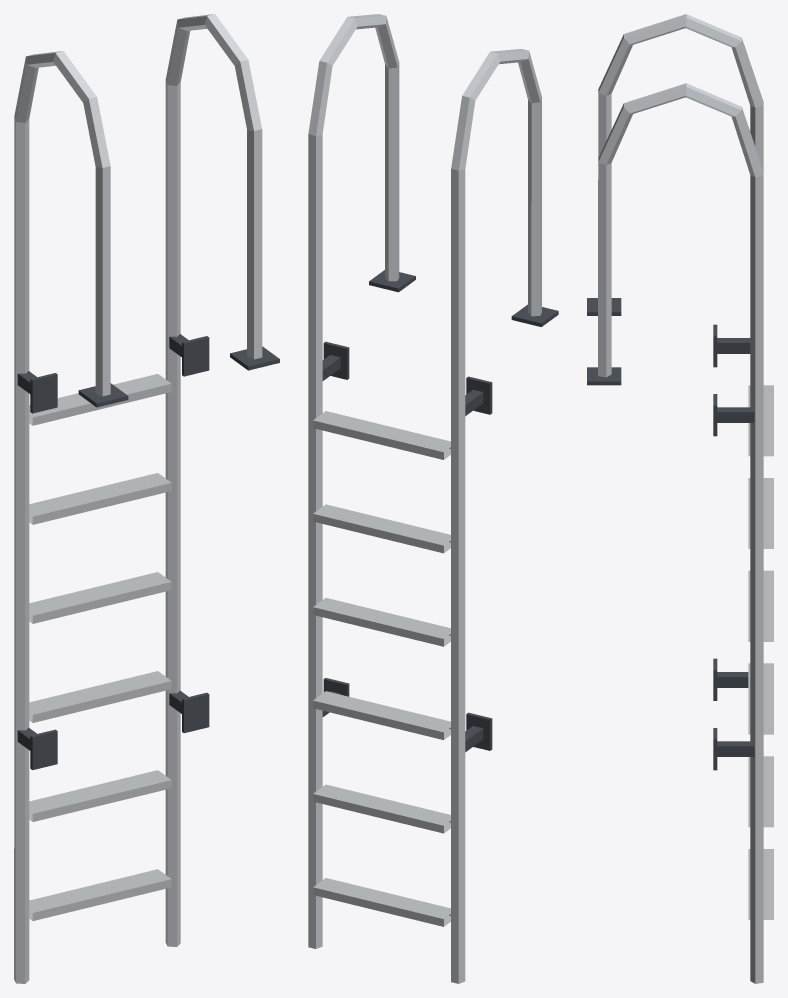
File: prop_dock_ladder.glb
3 renders of one model, left to right at view 1: azimuth 30°, elevation 25°; view 2: azimuth 150°, elevation 25°; view 3: azimuth 270°, elevation 25°, orthographic. The views are drawn at different scales.
Parts seen in each view (by area): view 1: prop_dock_ladder__mesh; view 2: prop_dock_ladder__mesh; view 3: prop_dock_ladder__mesh.
Boxes of the visible parts, left/top/right/bottom form: prop_dock_ladder__mesh: left=14, top=14, right=279, bottom=983; prop_dock_ladder__mesh: left=308, top=14, right=558, bottom=983; prop_dock_ladder__mesh: left=587, top=14, right=773, bottom=983.
Bounding box in the file's own units: 0.58 × 2.9 × 0.5475.
Materials: 1 (1 with a texture image).
